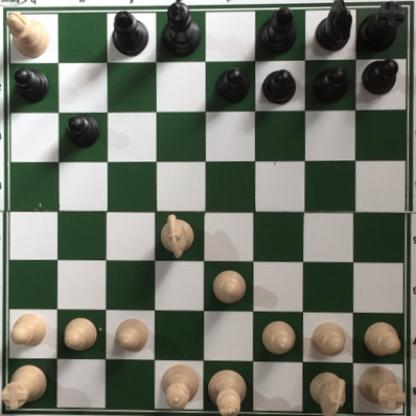black-bishop: (256, 3, 296, 55), (111, 3, 150, 54)
black-king: (159, 1, 198, 57)
black-knight: (315, 1, 353, 53)
black-pawn: (10, 66, 50, 105), (310, 66, 347, 105), (361, 57, 398, 94), (213, 67, 248, 104), (261, 68, 296, 105), (65, 115, 101, 148)
black-rook: (353, 1, 406, 55)
white-bishop: (4, 10, 52, 59)
white-king: (205, 366, 248, 416)
white-knight: (158, 211, 196, 261), (308, 370, 348, 416)
white-pawn: (111, 316, 152, 353), (360, 321, 399, 359), (210, 270, 250, 305), (310, 320, 346, 358), (9, 310, 47, 345), (62, 315, 97, 353), (260, 320, 296, 355)
white-queen: (157, 362, 199, 410)
white-rook: (353, 362, 406, 410), (1, 363, 49, 410)
